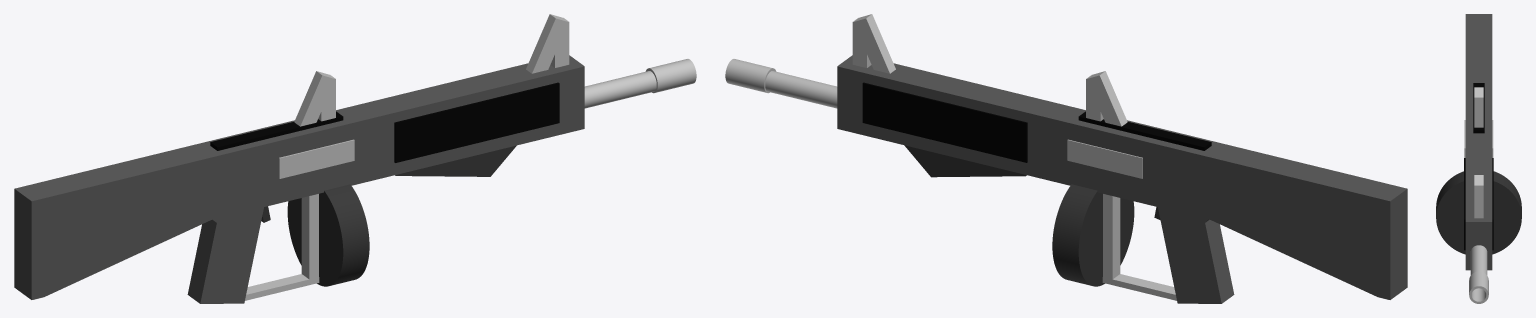
File: shotgun.glb
3 views of the same model, side by side, from view 1: azimuth 30°, elevation 25°; view 2: azimuth 150°, elevation 25°; view 3: azimuth 270°, elevation 25° (orthographic). The views are drawn at different scales.
Parts seen in each view (by area): view 1: mesh_id27, mesh_id33, mesh_id151, mesh_id53, mesh_id75, mesh_id138, mesh_id87, mesh_id71, mesh_id44, mesh_id121, mesh_id183, mesh_id99 (+6 smaller); view 2: mesh_id27, mesh_id151, mesh_id53, mesh_id75, mesh_id33, mesh_id138, mesh_id87, mesh_id71, mesh_id99, mesh_id121, mesh_id44, mesh_id174 (+6 smaller); view 3: mesh_id27, mesh_id75, mesh_id183, mesh_id87, mesh_id151, mesh_id93, mesh_id112, mesh_id121, mesh_id138, mesh_id99, mesh_id111.
Boxes of the visible parts, box(x1,y1,x2,y2) form: mesh_id27: box(14, 55, 584, 263); mesh_id33: box(32, 161, 211, 296); mesh_id151: box(394, 82, 559, 162); mesh_id53: box(187, 207, 263, 303); mesh_id75: box(287, 184, 369, 286); mesh_id138: box(279, 139, 354, 178); mesh_id87: box(584, 71, 656, 108); mesh_id71: box(301, 194, 318, 279); mesh_id44: box(14, 236, 44, 299); mesh_id121: box(210, 111, 343, 150); mesh_id183: box(645, 59, 696, 93); mesh_id99: box(526, 14, 568, 73); mesh_id27: box(837, 55, 1407, 263); mesh_id151: box(862, 82, 1027, 162); mesh_id53: box(1158, 207, 1234, 303); mesh_id75: box(1052, 184, 1134, 286); mesh_id33: box(1210, 165, 1384, 296); mesh_id138: box(1067, 139, 1142, 178); mesh_id87: box(765, 71, 837, 108); mesh_id71: box(1103, 194, 1120, 279); mesh_id99: box(853, 14, 895, 73); mesh_id121: box(1078, 111, 1211, 150); mesh_id44: box(1377, 238, 1407, 299); mesh_id174: box(929, 151, 1026, 177); mesh_id27: box(1465, 14, 1492, 270); mesh_id75: box(1436, 171, 1521, 254); mesh_id183: box(1469, 271, 1488, 303); mesh_id87: box(1470, 245, 1487, 275); mesh_id151: box(1464, 158, 1493, 250); mesh_id93: box(1474, 185, 1483, 218); mesh_id112: box(1474, 97, 1483, 127); mesh_id121: box(1473, 83, 1484, 133); mesh_id138: box(1464, 120, 1493, 157); mesh_id99: box(1474, 175, 1483, 185); mesh_id111: box(1474, 87, 1483, 97).
Size of the model in its own units: 1.3 by 0.3884 by 0.1878.
18 materials, 18 textured.
